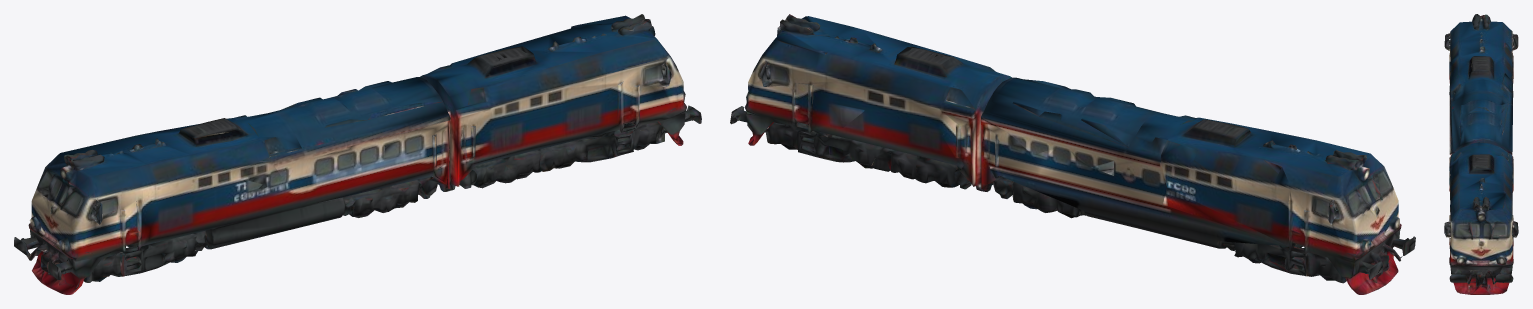
File: city_kars_eastern_express.glb
3 renders of one model, left to right at view 1: azimuth 30°, elevation 25°; view 2: azimuth 150°, elevation 25°; view 3: azimuth 270°, elevation 25°, orthographic. The views are drawn at different scales.
Parts seen in each view (by area): view 1: Mesh1.0; view 2: Mesh1.0; view 3: Mesh1.0.
Boxes of the visible parts, x1,y1,x2,y2 form: Mesh1.0: (14,14,701,294); Mesh1.0: (730,14,1415,294); Mesh1.0: (1444,14,1518,294).
Bounding box in the file's own units: 20.01 × 3.6 × 2.96.
1 material, 1 textured.
